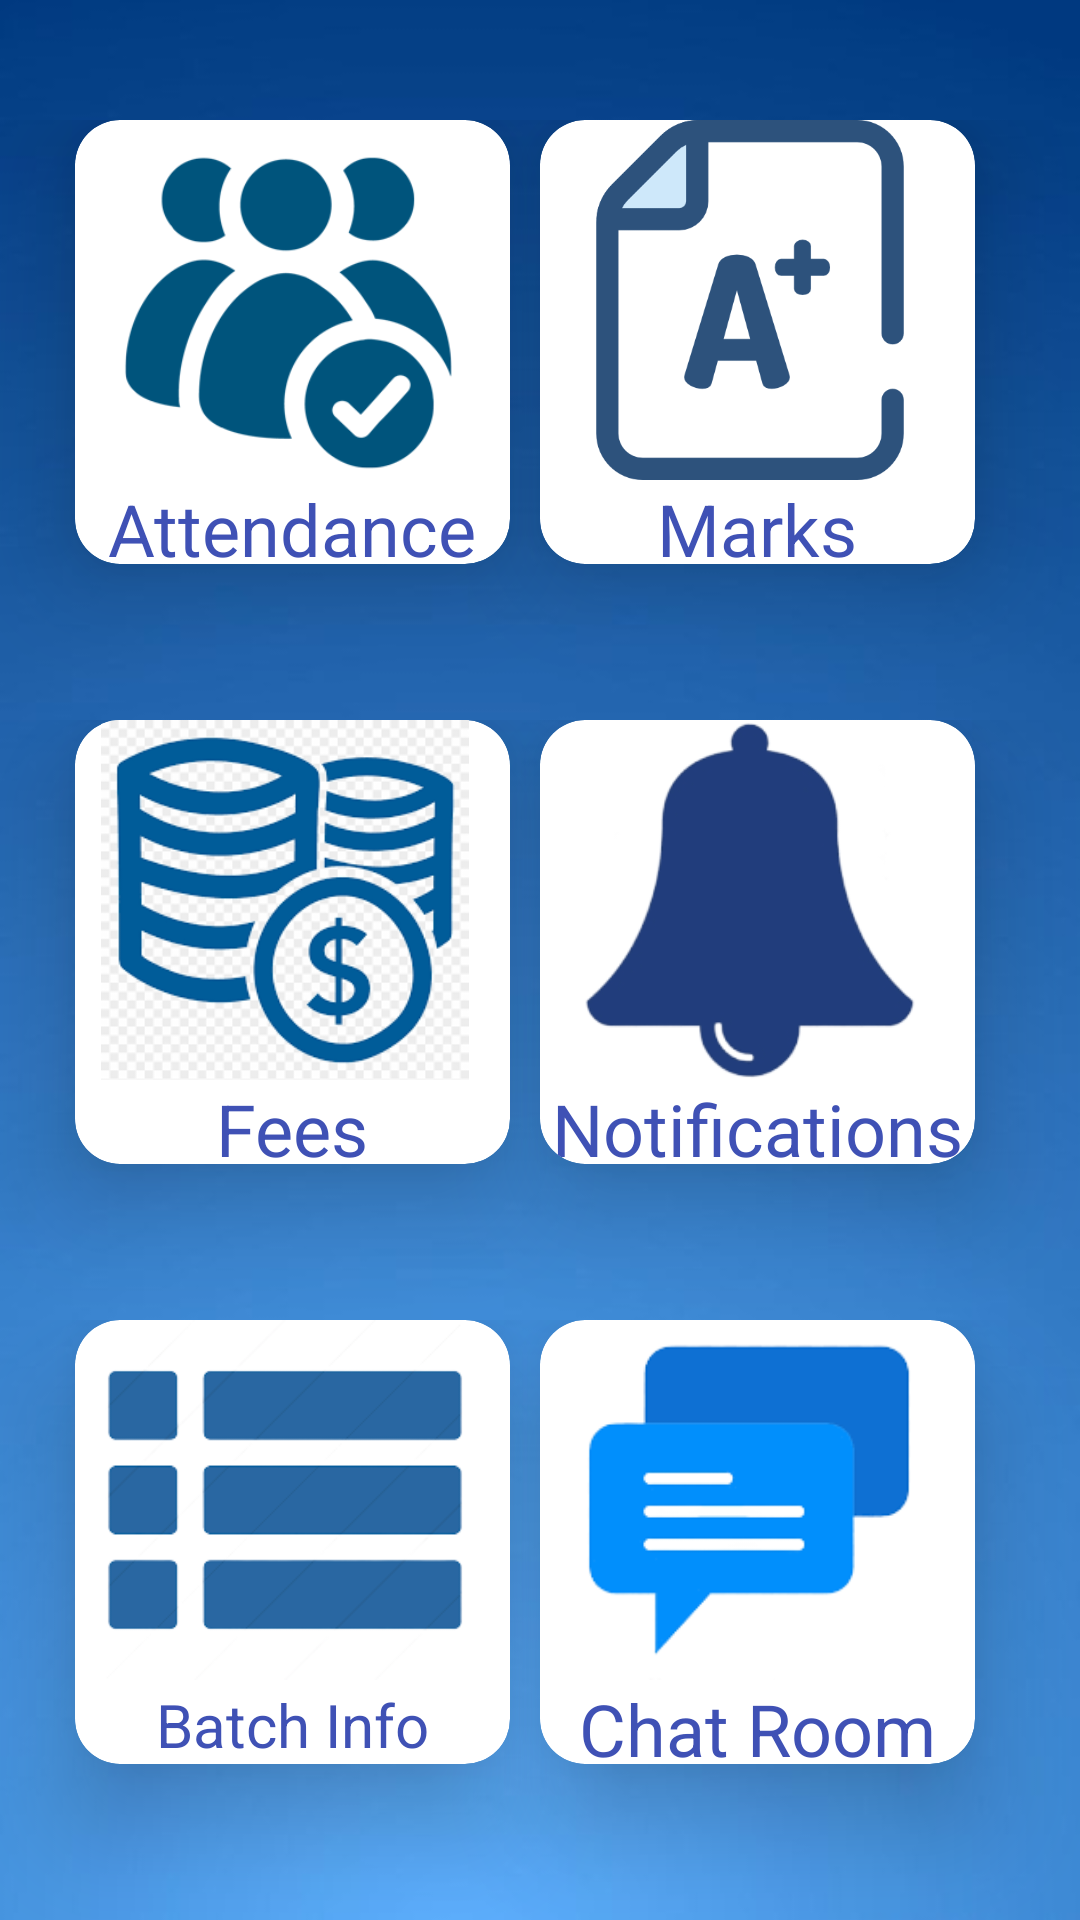

Screen size 1080w x 1920h. Icon name, then its center in pixels as [x,y]:
bell: [750,900]
